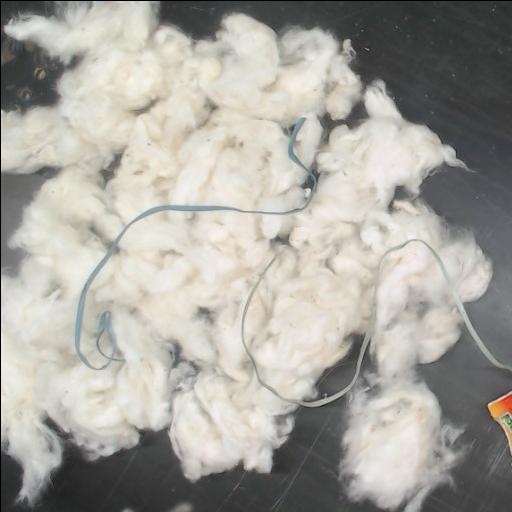conveyor belt: (162, 1, 512, 362), (1, 397, 383, 512), (419, 330, 512, 512), (1, 1, 62, 109), (1, 169, 52, 269), (318, 339, 358, 393)
cotton: (1, 1, 492, 500), (339, 243, 463, 512)
packet: (487, 390, 512, 456)
thread: (75, 118, 317, 370), (241, 239, 512, 406)
